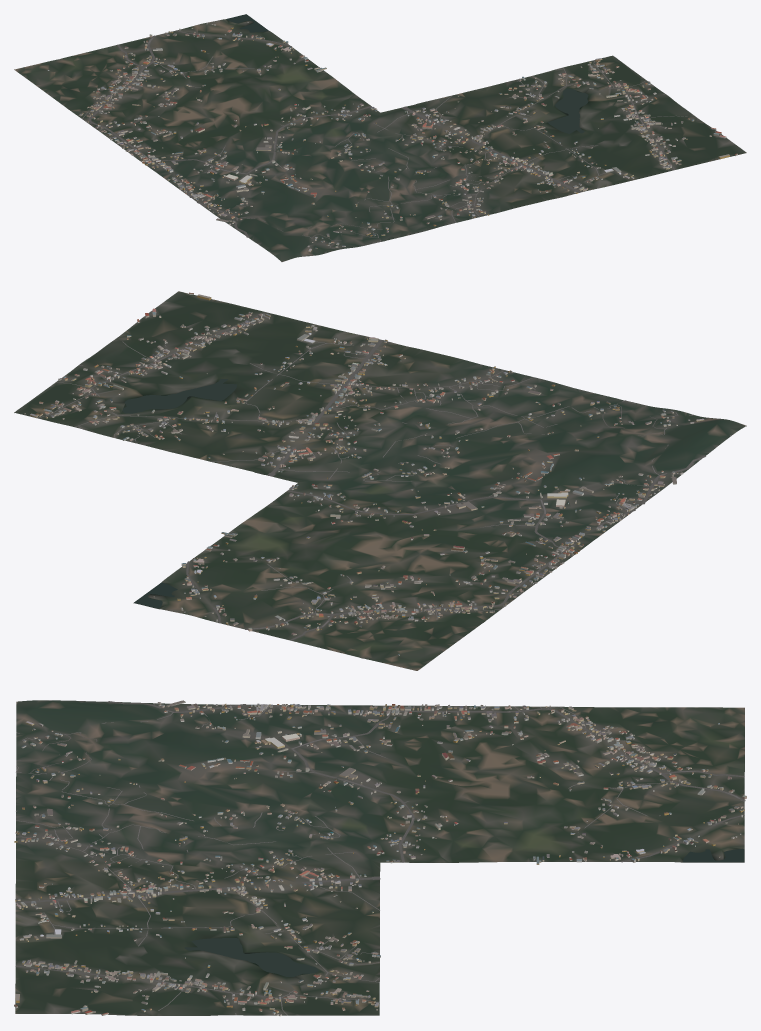
3 views of the same model, one above another, from view 1: azimuth 30°, elevation 25°; view 2: azimuth 150°, elevation 25°; view 3: azimuth 270°, elevation 25° (orthographic). The views are drawn at different scales.
Parts seen in each view (by area): view 1: ground, buildings, roads, water; view 2: ground, buildings, roads, water; view 3: ground, buildings, roads, water.
Boxes of the visible parts, x1,y1,x2,y2 form: ground: (14, 19, 746, 261); buildings: (47, 22, 737, 252); roads: (82, 30, 687, 253); water: (226, 14, 588, 133); ground: (14, 291, 746, 670); buildings: (24, 292, 704, 655); roads: (36, 312, 731, 640); water: (122, 379, 236, 608); ground: (15, 700, 744, 1015); buildings: (14, 700, 746, 1016); roads: (15, 700, 745, 1015); water: (184, 848, 744, 976).
Bounding box in the file's own units: 2836 × 53.48 × 2820.
